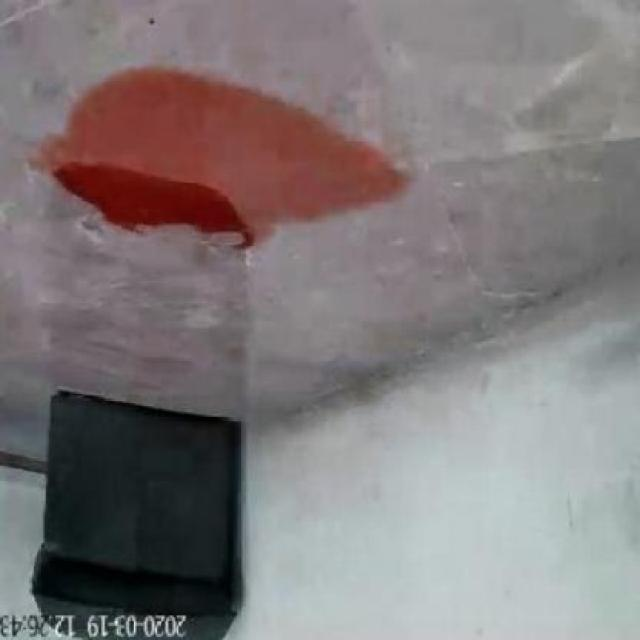spillage: (29, 66, 409, 246)
